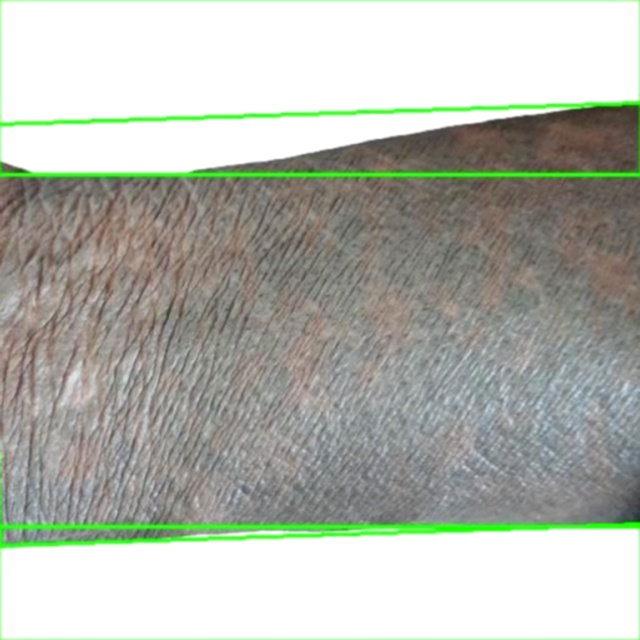Eczema: (0, 103, 639, 546), (0, 0, 639, 174), (0, 526, 639, 639)
